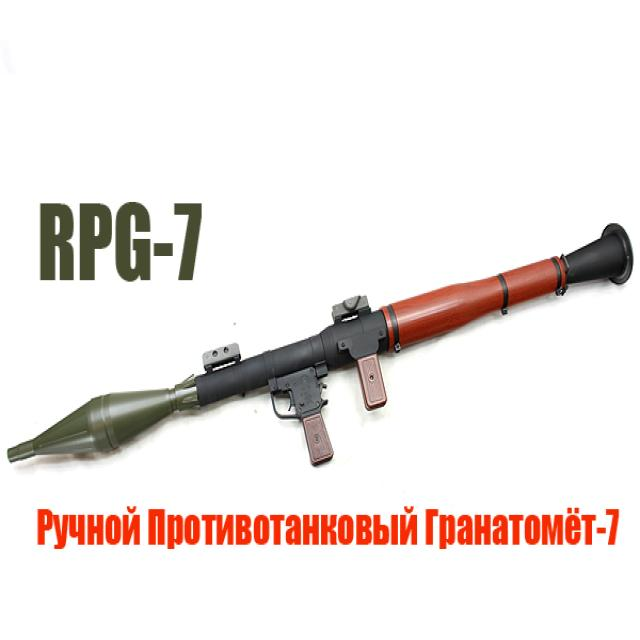bazooka: (6, 167, 640, 578)
